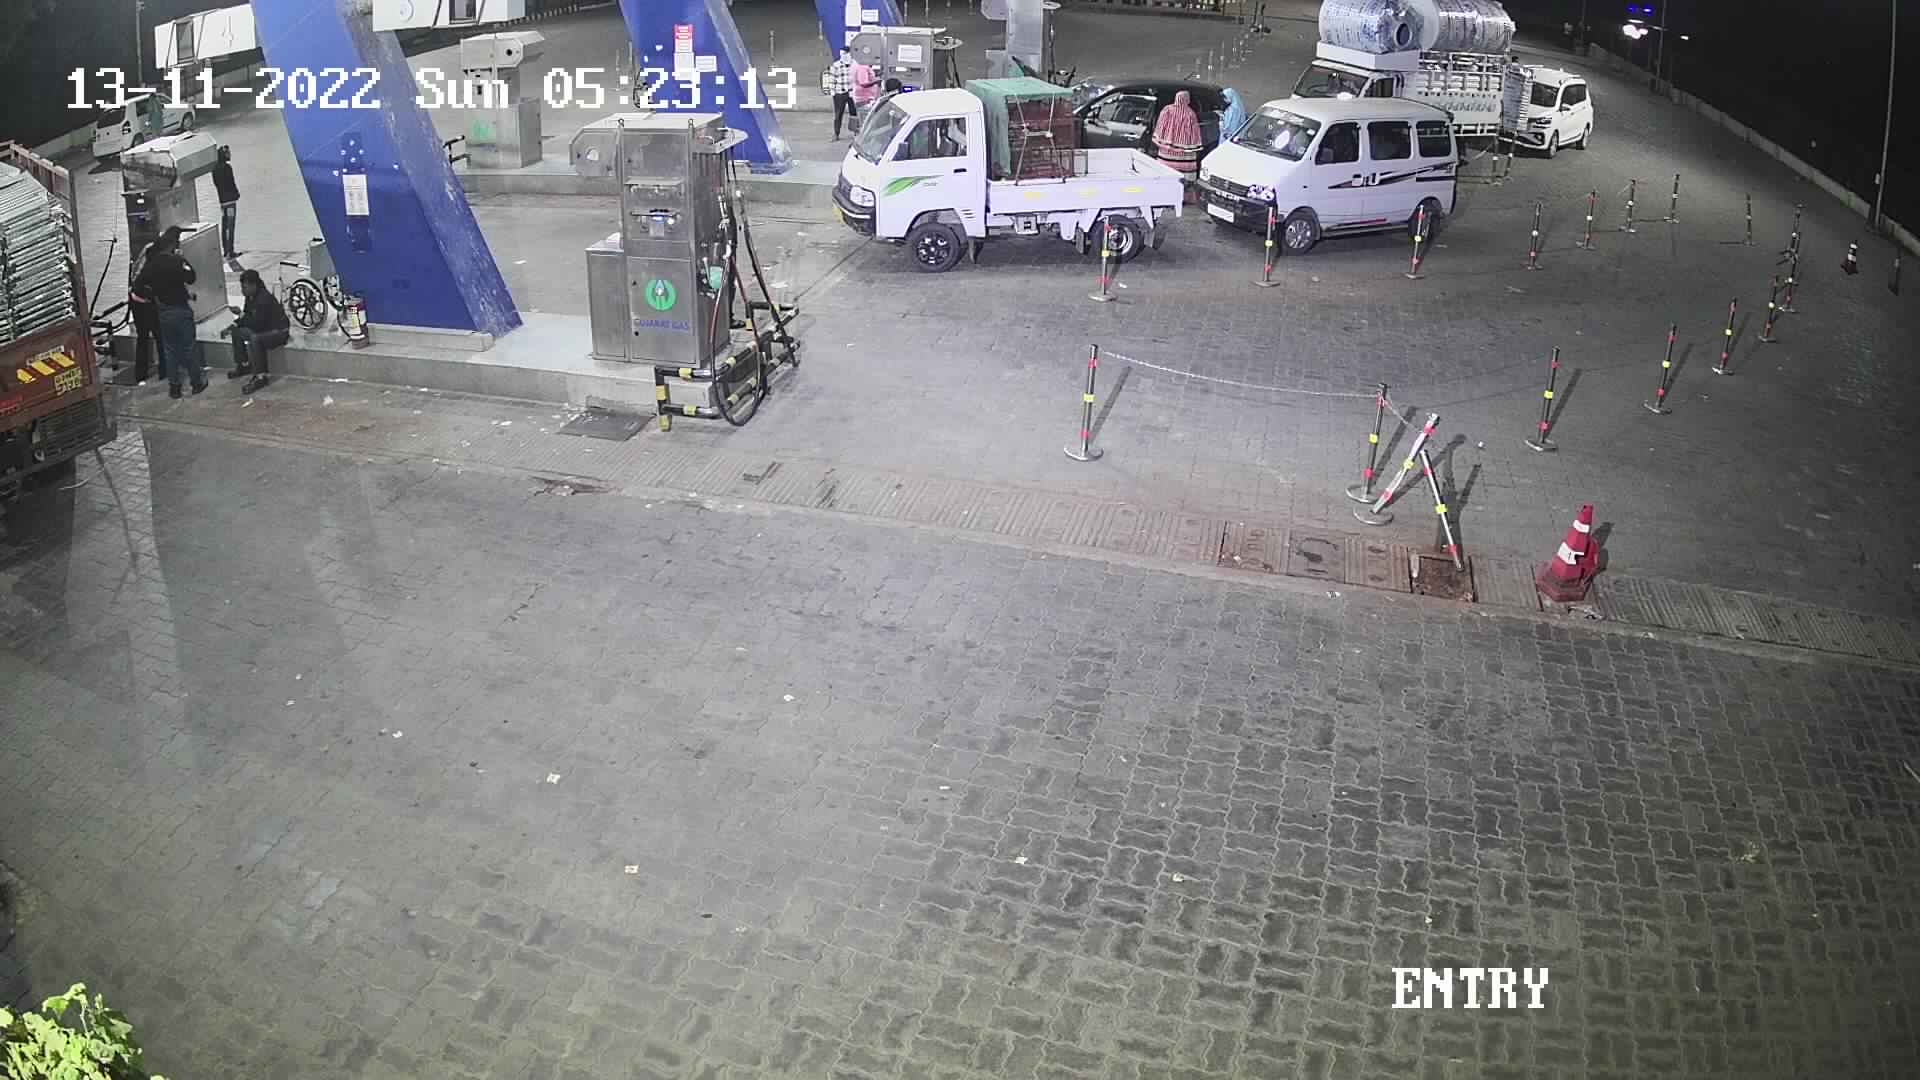Car: (823, 67, 1192, 284), (1189, 90, 1470, 258), (1280, 0, 1527, 179), (982, 47, 1237, 206), (71, 80, 206, 173), (1493, 59, 1604, 161)
HMV: (0, 111, 128, 517)
